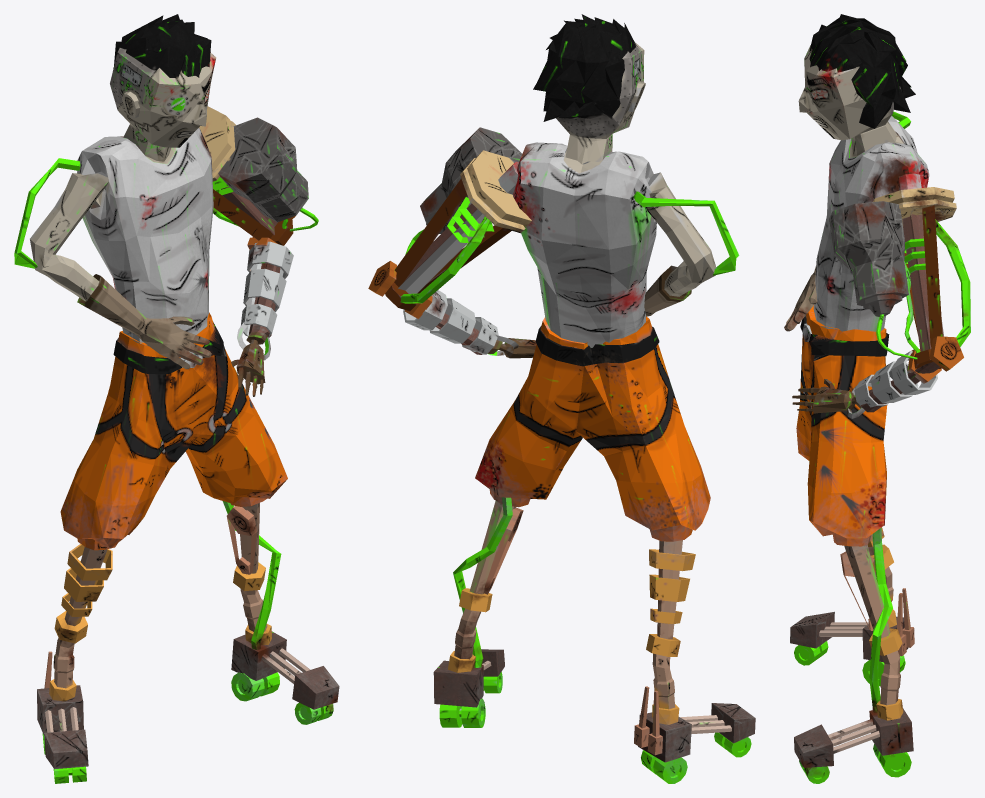
The model's file is CyborgFINALAnimation_000011.obj.
3 renders of one model, left to right at view 1: azimuth 30°, elevation 25°; view 2: azimuth 150°, elevation 25°; view 3: azimuth 270°, elevation 25°, orthographic. The views are drawn at different scales.
Visible parts, largest first — view 1: CyborgMesh_Cube.002; view 2: CyborgMesh_Cube.002; view 3: CyborgMesh_Cube.002.
Part boxes in pixels (x1=…): CyborgMesh_Cube.002: x1=14, y1=14, x2=339, y2=783; CyborgMesh_Cube.002: x1=368, y1=14, x2=755, y2=783; CyborgMesh_Cube.002: x1=784, y1=14, x2=970, y2=783.
Bounding box in the file's own units: 4.48 × 9.62 × 2.32.
